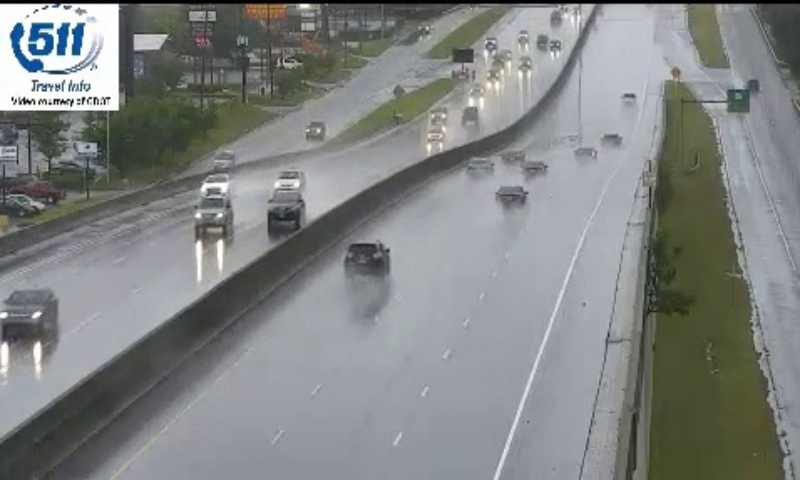car: (344, 241, 389, 280), (495, 184, 525, 209)
